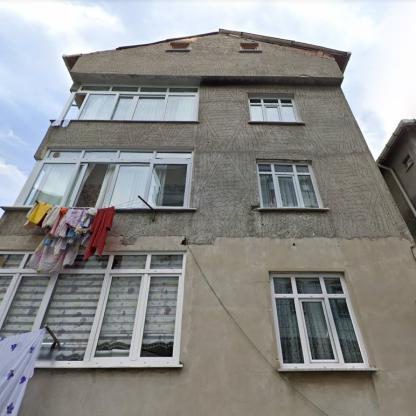window: (0, 253, 185, 365), (19, 150, 192, 206), (272, 274, 366, 367), (62, 84, 198, 121), (257, 162, 321, 207), (250, 98, 297, 122), (172, 45, 188, 49), (243, 46, 257, 50)
